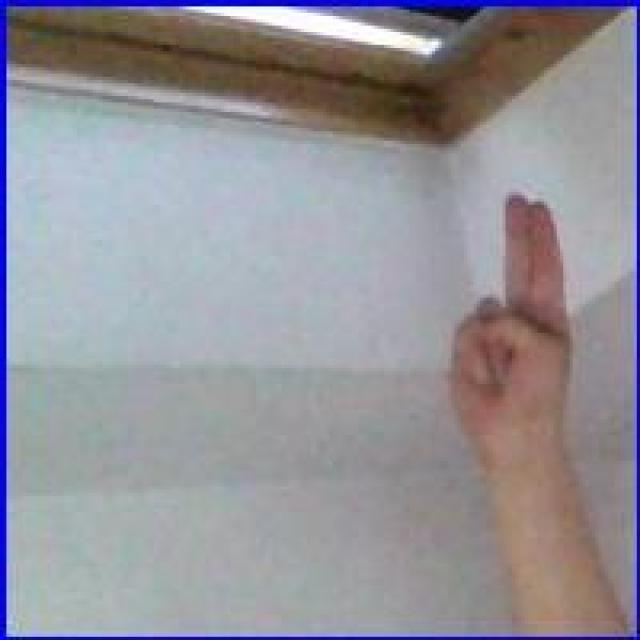U: (445, 188, 582, 446)
